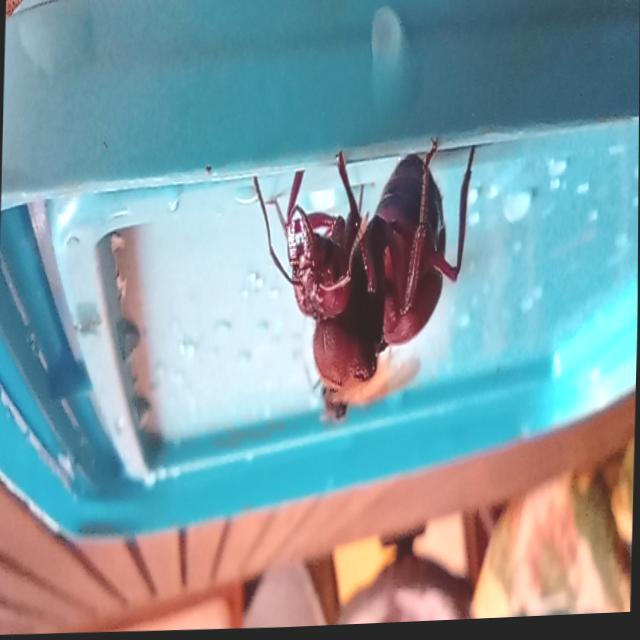Alive-Female-Dealate: (248, 133, 494, 400)
